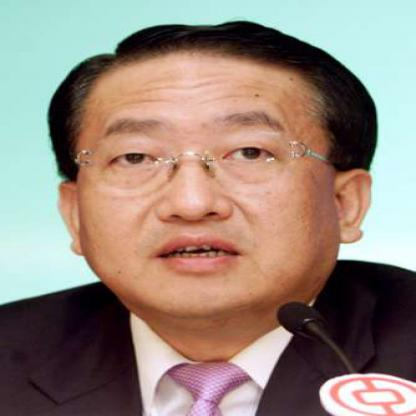face: (68, 31, 341, 319)
